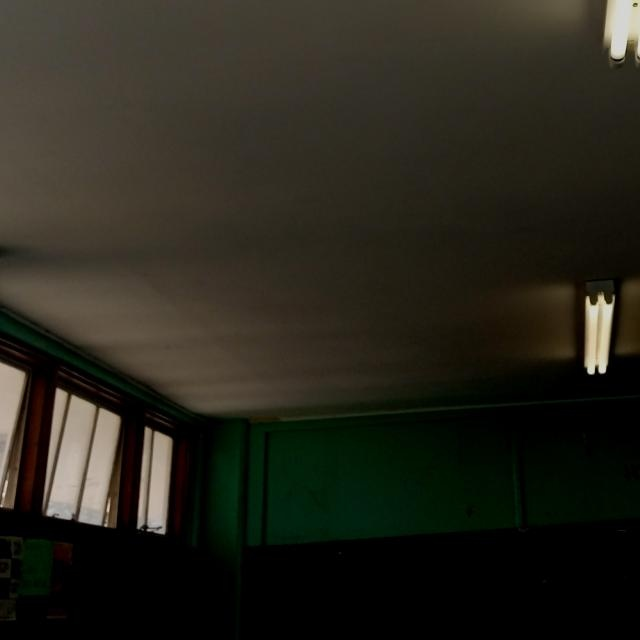fluorescent tube: (566, 262, 632, 403), (584, 0, 640, 91)
